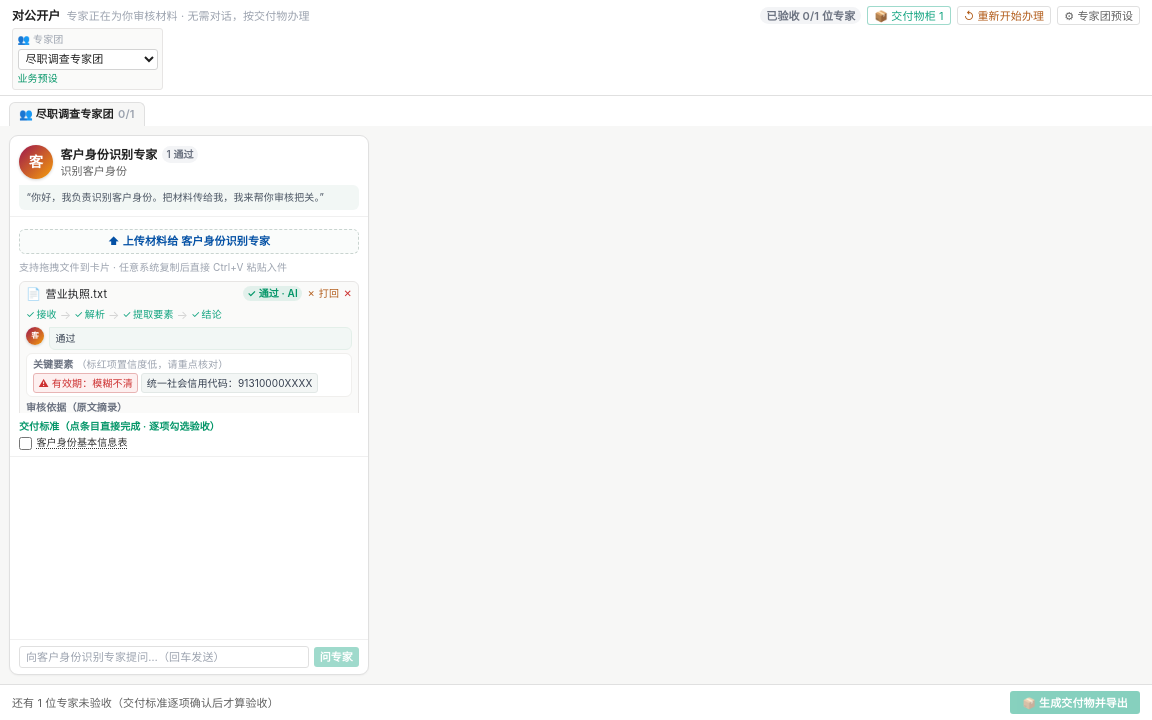
Test: 草稿区默认收起（BUGFIX #134） › 专家回答附带的新草稿到达后草稿区自动展开
The image size is (1152, 720).
通过专家卡提问框发起提问（专家卡输入框带 placeholder，按此区分）
In the field with placeholder "提问…（回车发送）": (164, 657) x1=19 y1=646 x2=309 y2=668, type "给我一份资料清单"
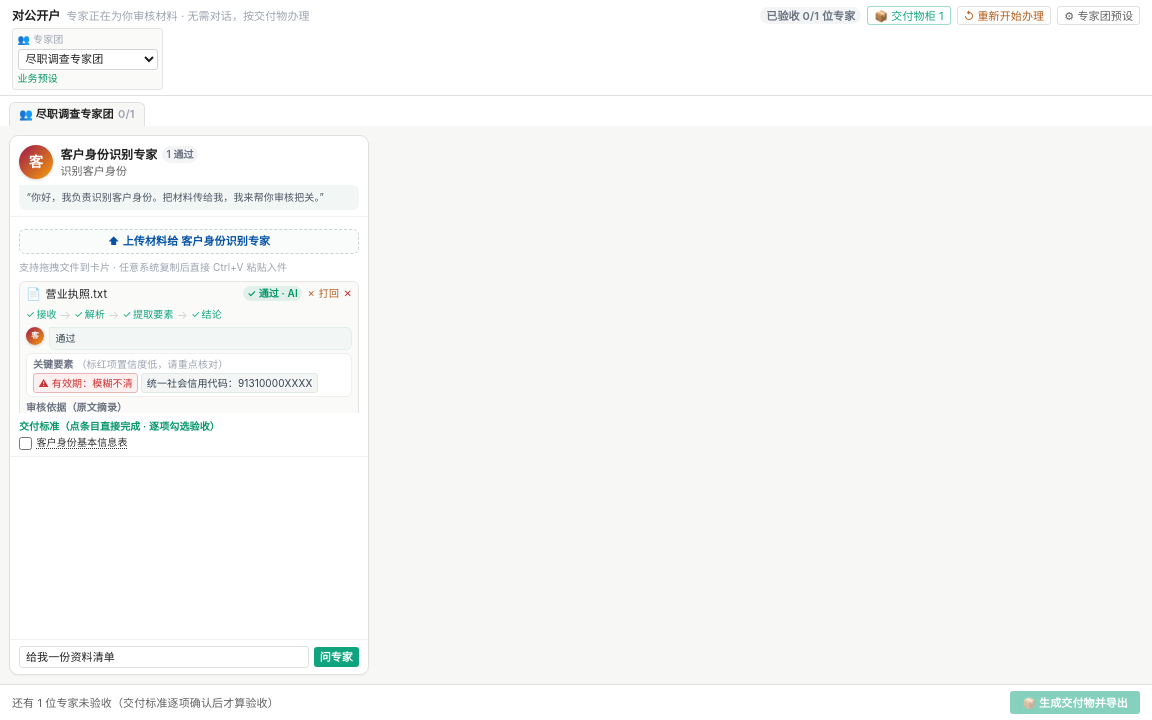
Press Enter in the field with placeholder "提问…（回车发送）", box x1=19 y1=646 x2=309 y2=668
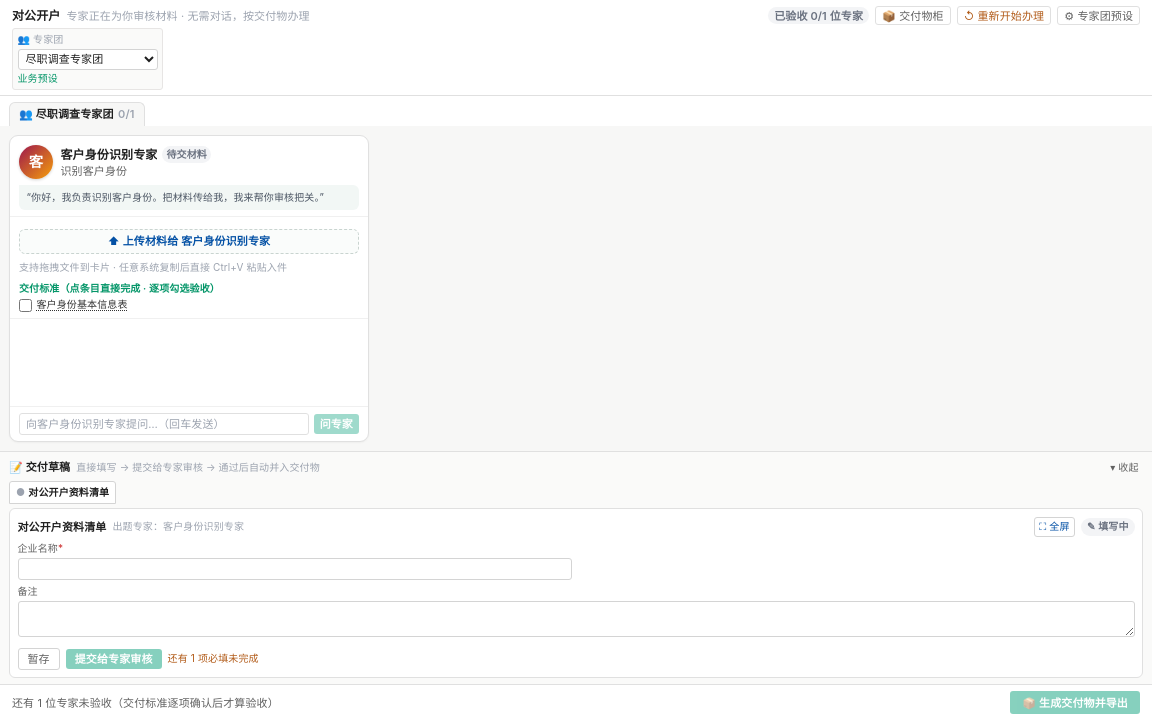
expect the button "提交给专家审核" is shown: met, box x1=66 y1=648 x2=162 y2=668
